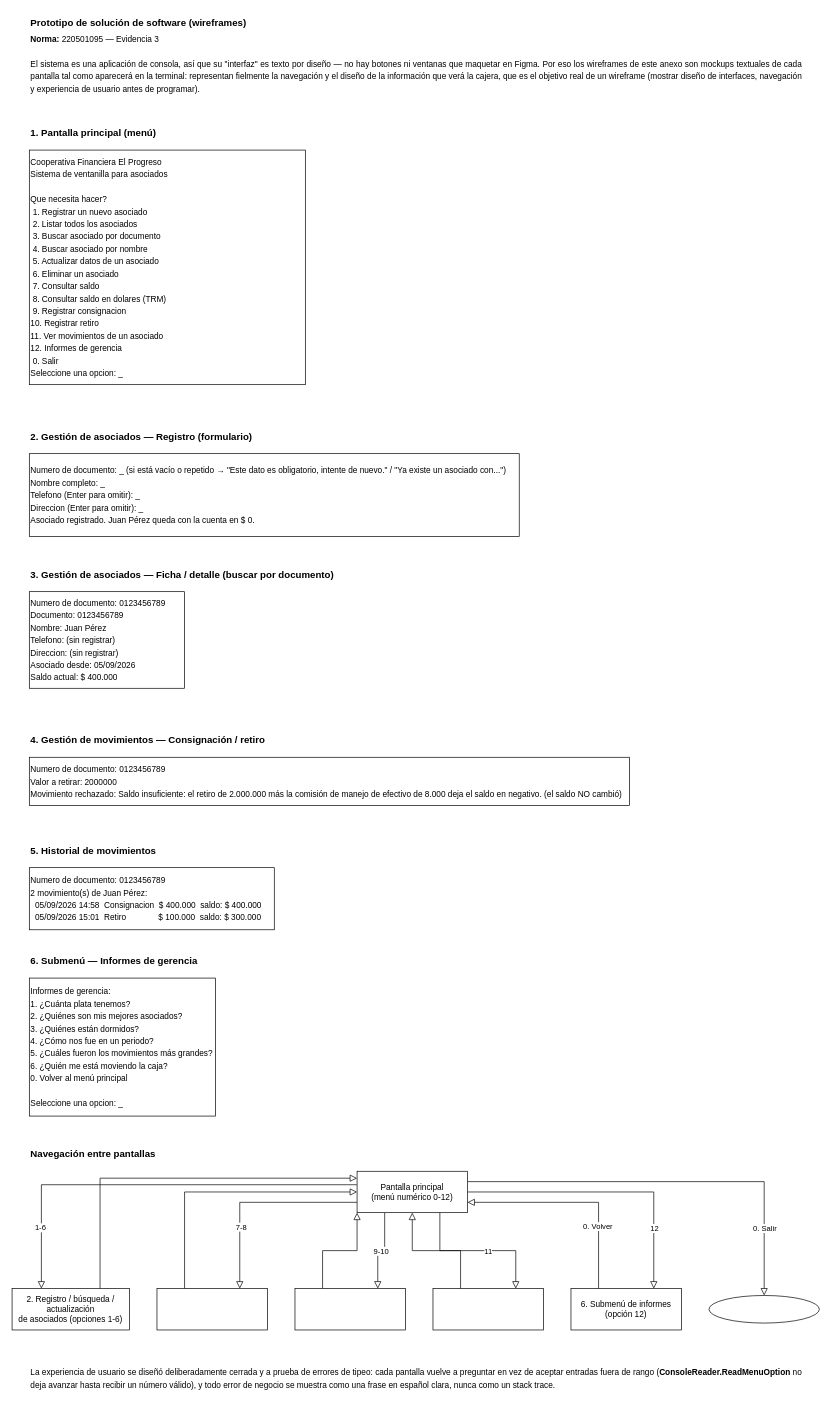
Some shapes in this 831 by 1410 pixel diagram are drawn without their labels. The box of each missing label's shape, as (x1, y1, x2, y2) in pixels:
3. Consulta de saldo COP / USD (opciones 7-8): (156, 1288, 267, 1330)
4. Consignación / retiro (opciones 9-10): (294, 1288, 405, 1330)
5. Historial de movimientos (opción 11): (432, 1288, 543, 1330)
Fin del programa: (708, 1295, 819, 1323)
